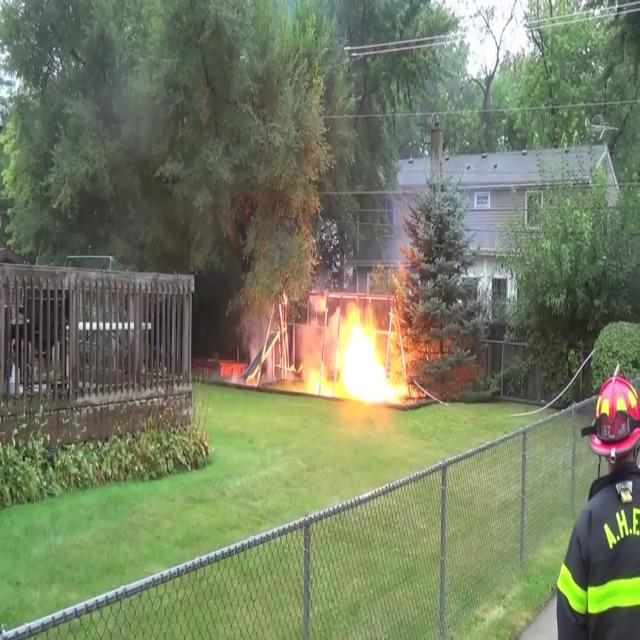Fire: (306, 298, 412, 406)
